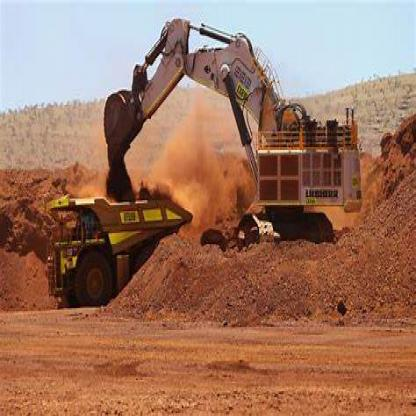dump_truck: (37, 180, 215, 311)
excavator: (96, 10, 368, 260)
